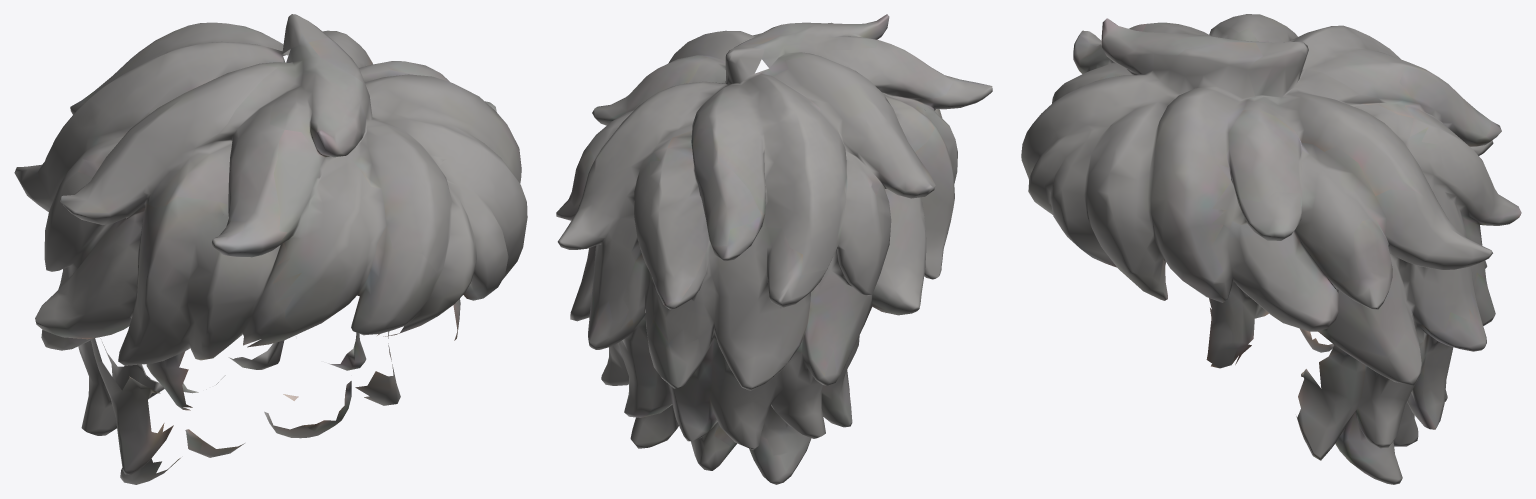
File: hair-m-surfer.glb
3 views of the same model, side by side, from view 1: azimuth 30°, elevation 25°; view 2: azimuth 150°, elevation 25°; view 3: azimuth 270°, elevation 25° (orthographic). The views are drawn at different scales.
Parts seen in each view (by area): view 1: hair-m-surfer; view 2: hair-m-surfer; view 3: hair-m-surfer.
Boxes of the visible parts, bbox=[...] form: hair-m-surfer: bbox=[14, 14, 527, 484]; hair-m-surfer: bbox=[556, 14, 992, 484]; hair-m-surfer: bbox=[1021, 14, 1521, 484].
Size of the model in its own units: 1.1 by 1.15 by 1.25.
1 material, 1 textured.
